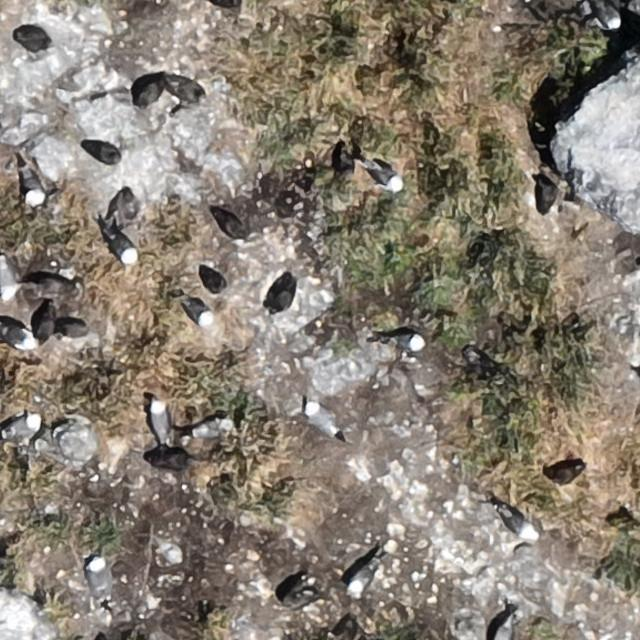umineko: (306, 405, 338, 436), (507, 514, 539, 543), (370, 163, 401, 190), (88, 560, 109, 598), (83, 142, 119, 164), (1, 325, 34, 349), (5, 414, 37, 437), (113, 233, 137, 263), (185, 298, 211, 324), (350, 566, 374, 594), (151, 401, 169, 438), (390, 333, 423, 352), (598, 4, 621, 31), (192, 418, 224, 437), (1, 260, 18, 294), (24, 176, 42, 206), (495, 618, 515, 640)
